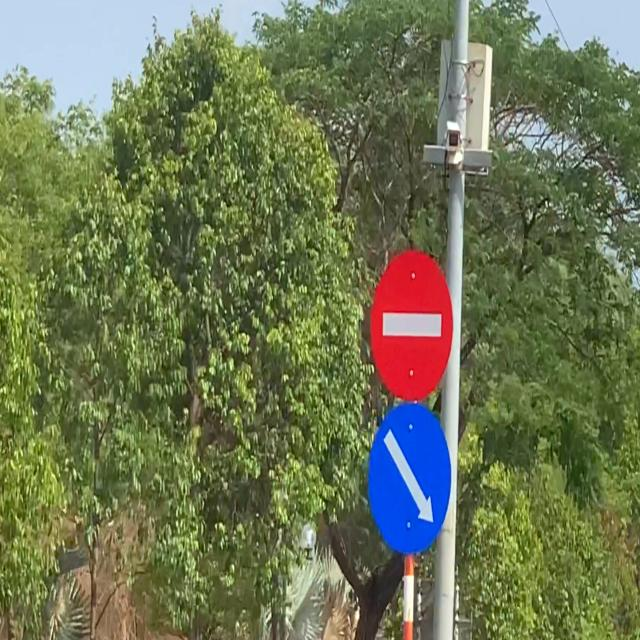Cam nguoc chieu: (369, 250, 454, 400)
Hieu lenh: (368, 402, 452, 555)
